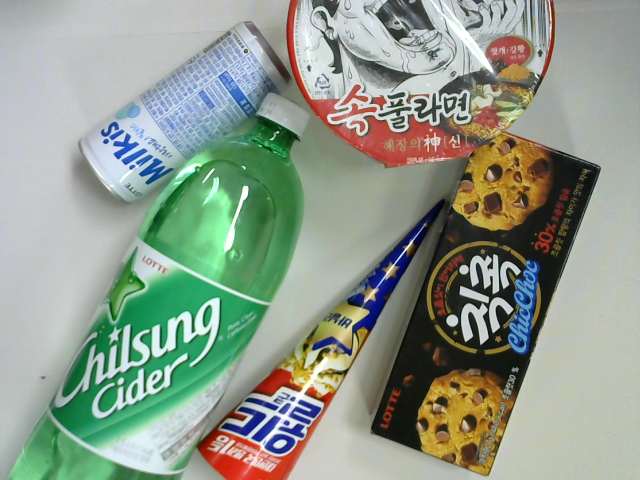Chicchok_Original_2400: (367, 131, 605, 479)
Chilseong_Cider_1.5L: (1, 89, 317, 480)
Hejangpul: (282, 1, 564, 171)
Milkies_250ml: (77, 19, 300, 211)
World_Cone_Banila: (193, 185, 458, 480)
